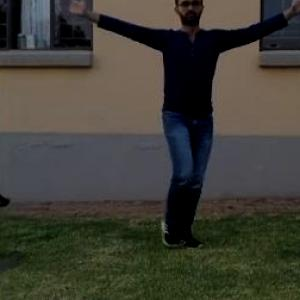takeoff: (90, 0, 300, 219)
